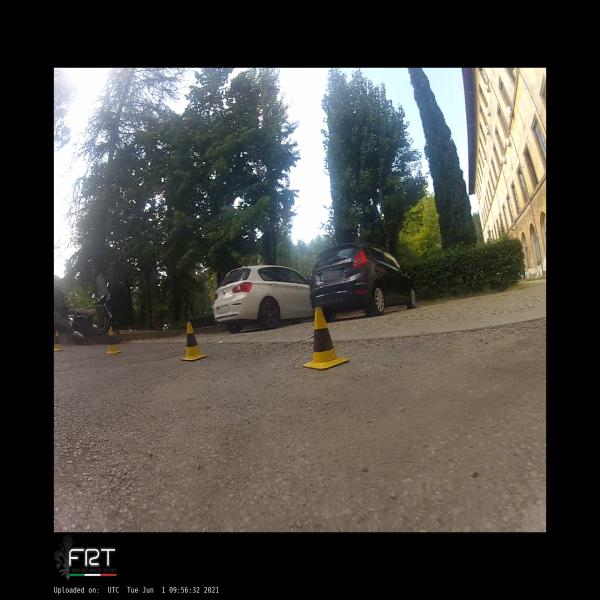yellow_cone: (303, 306, 349, 371), (181, 321, 207, 361), (105, 327, 122, 354), (54, 331, 64, 352)
